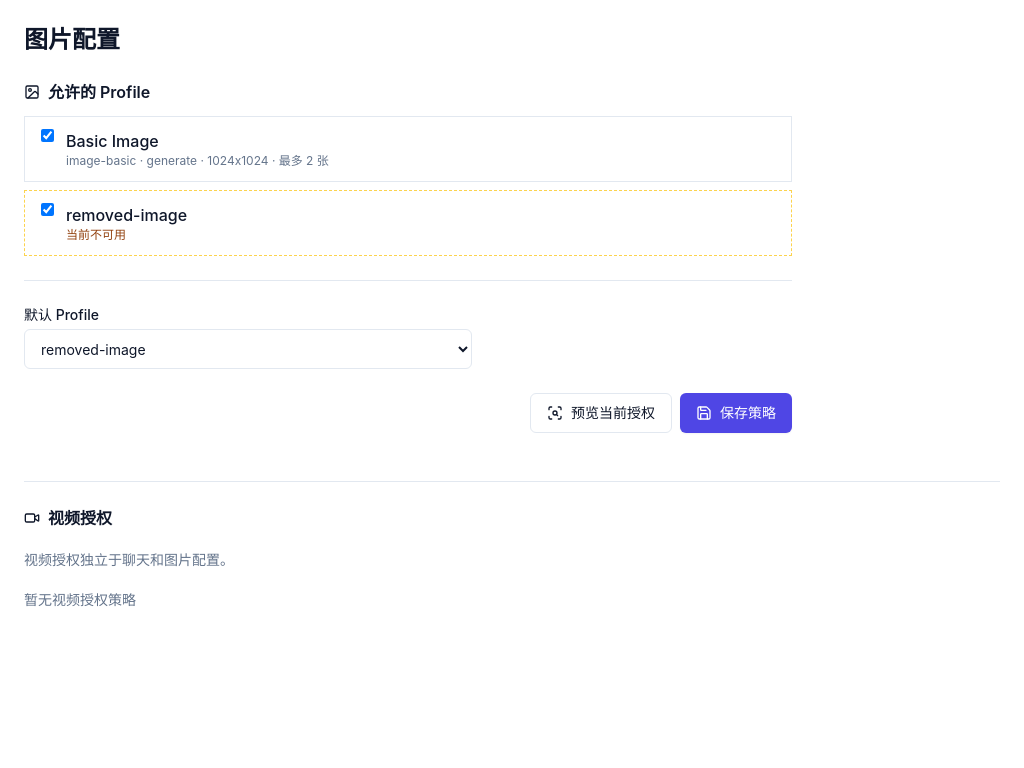
Test: enterprise media configuration page › shows save errors without discarding edited values
This screenshot has width=1024, height=768.
Expected: the dropdown labelled "默认 Profile" is shown, [24,329,472,369]
Click the checkbox labelled "Basic Image image-basic · generate · 1024x1024 · 最多 2 张" at x=48, y=136, box [41,129,54,142]
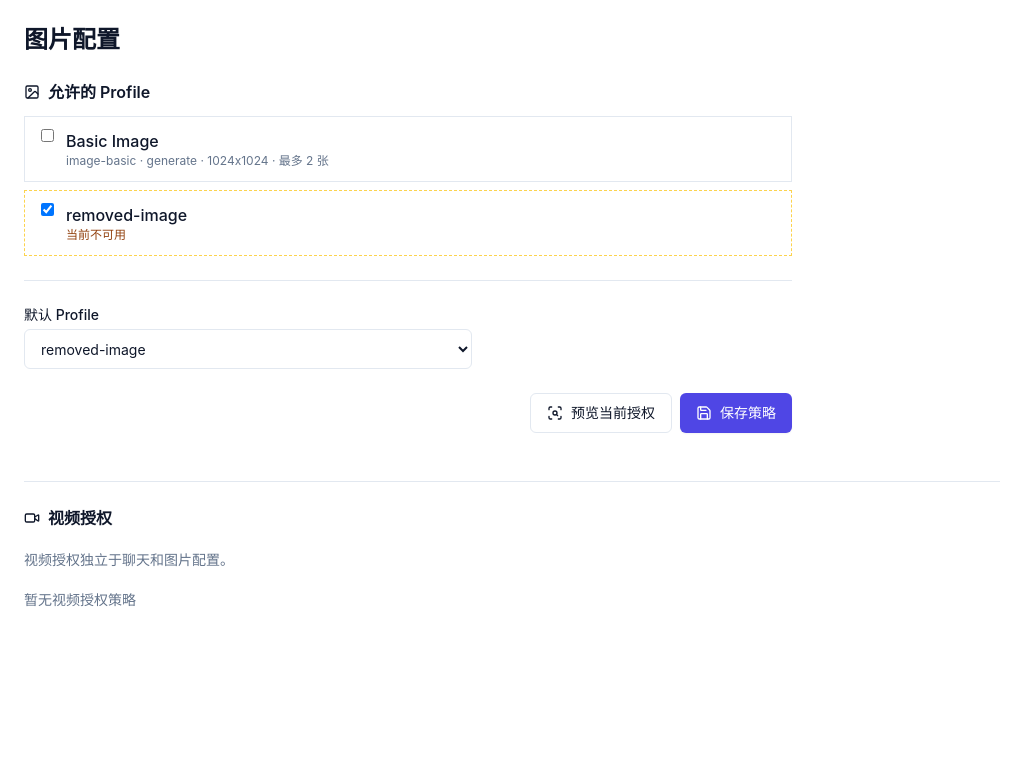
Click the button "保存策略" at x=736, y=413, box [680,393,792,433]
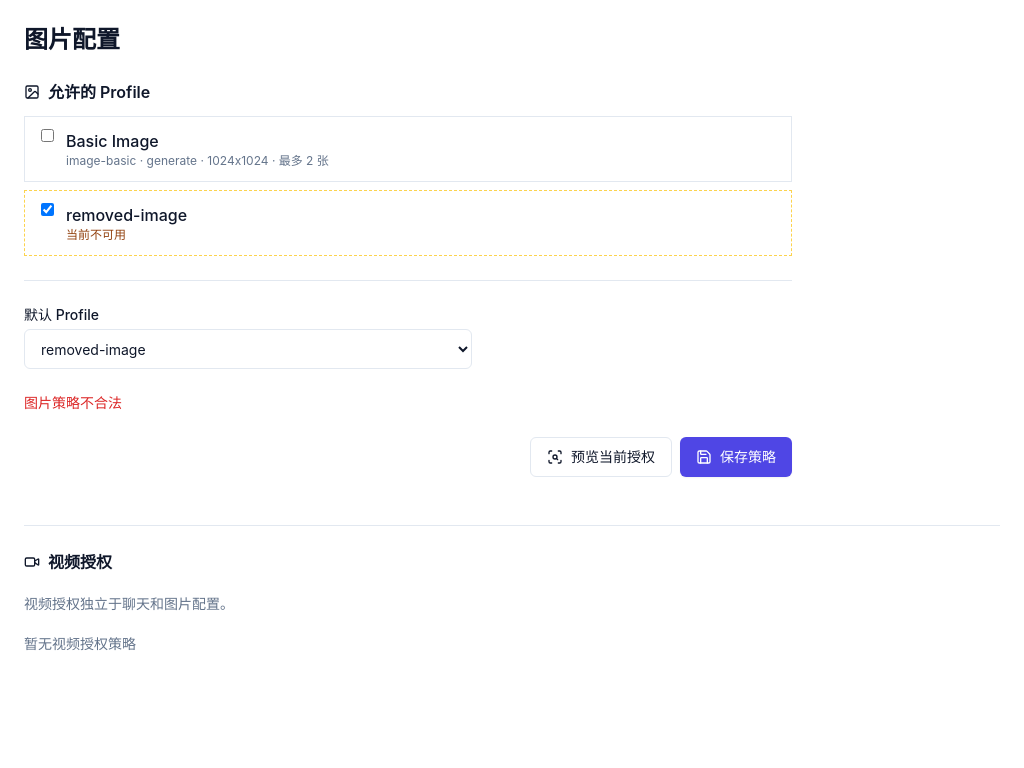
Expected: the checkbox labelled "Basic Image image-basic · generate · 1024x1024 · 最多 2 张" is not checked, [41,129,54,142]
Expected: the message reads "图片策略不合法", [24,394,122,411]
